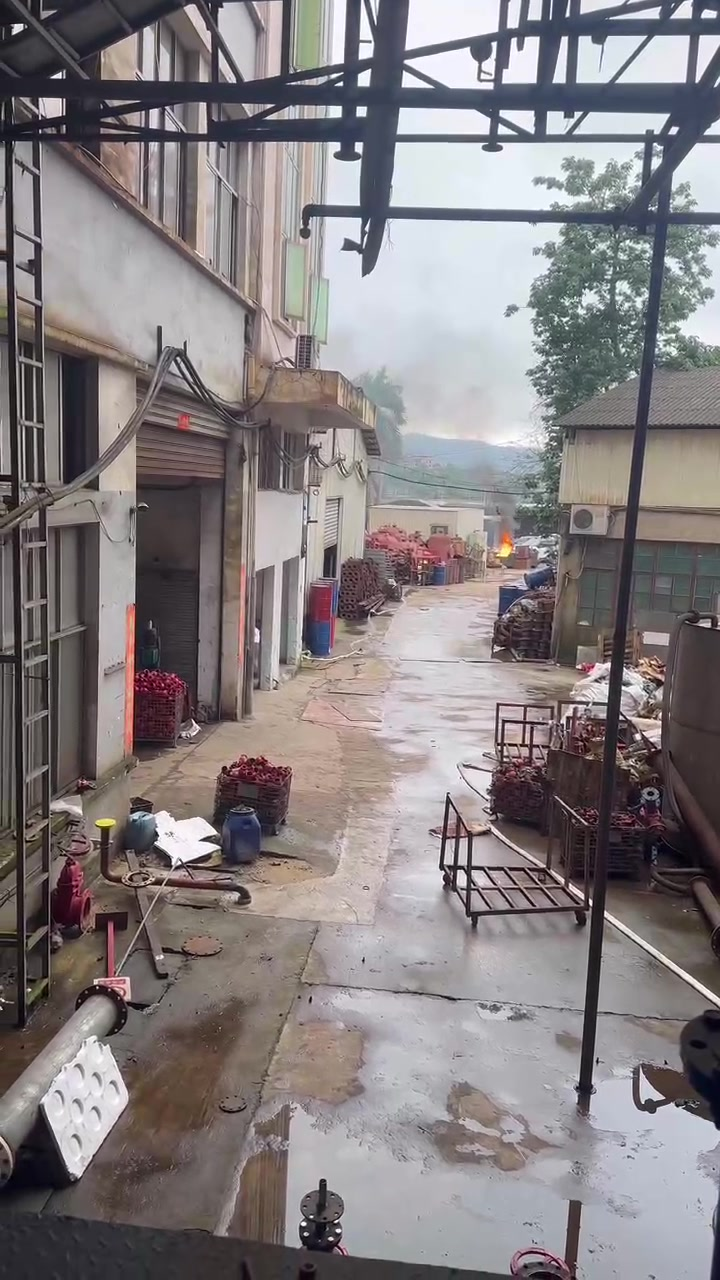fire: (496, 535, 511, 556)
